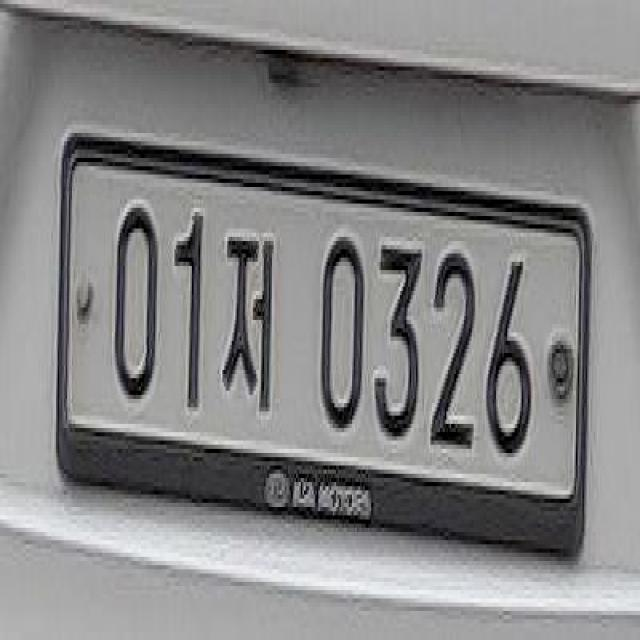illegal_plate: (55, 142, 601, 566)
